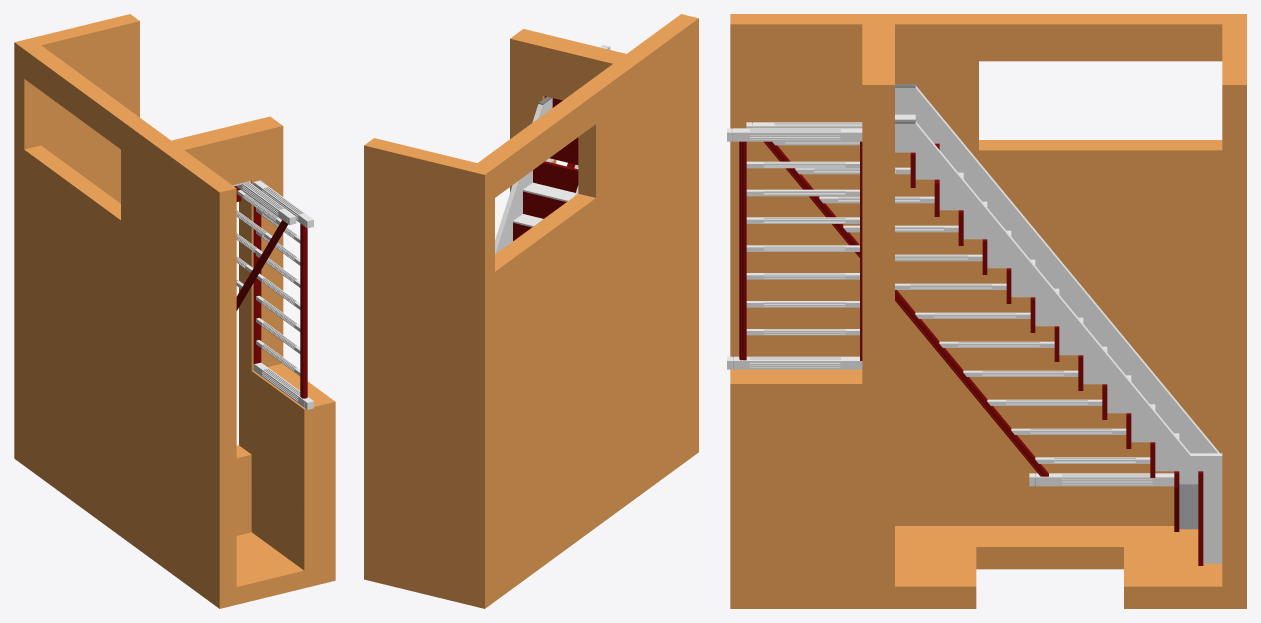
File: лестница.obj
The picture shows the model from 3 angles, left to right: view 1: azimuth 30°, elevation 25°; view 2: azimuth 150°, elevation 25°; view 3: azimuth 270°, elevation 25°; orthographic projection. The views are drawn at different scales.
Bounding box in the file's own units: 1.37 × 4.7 × 4.23.
